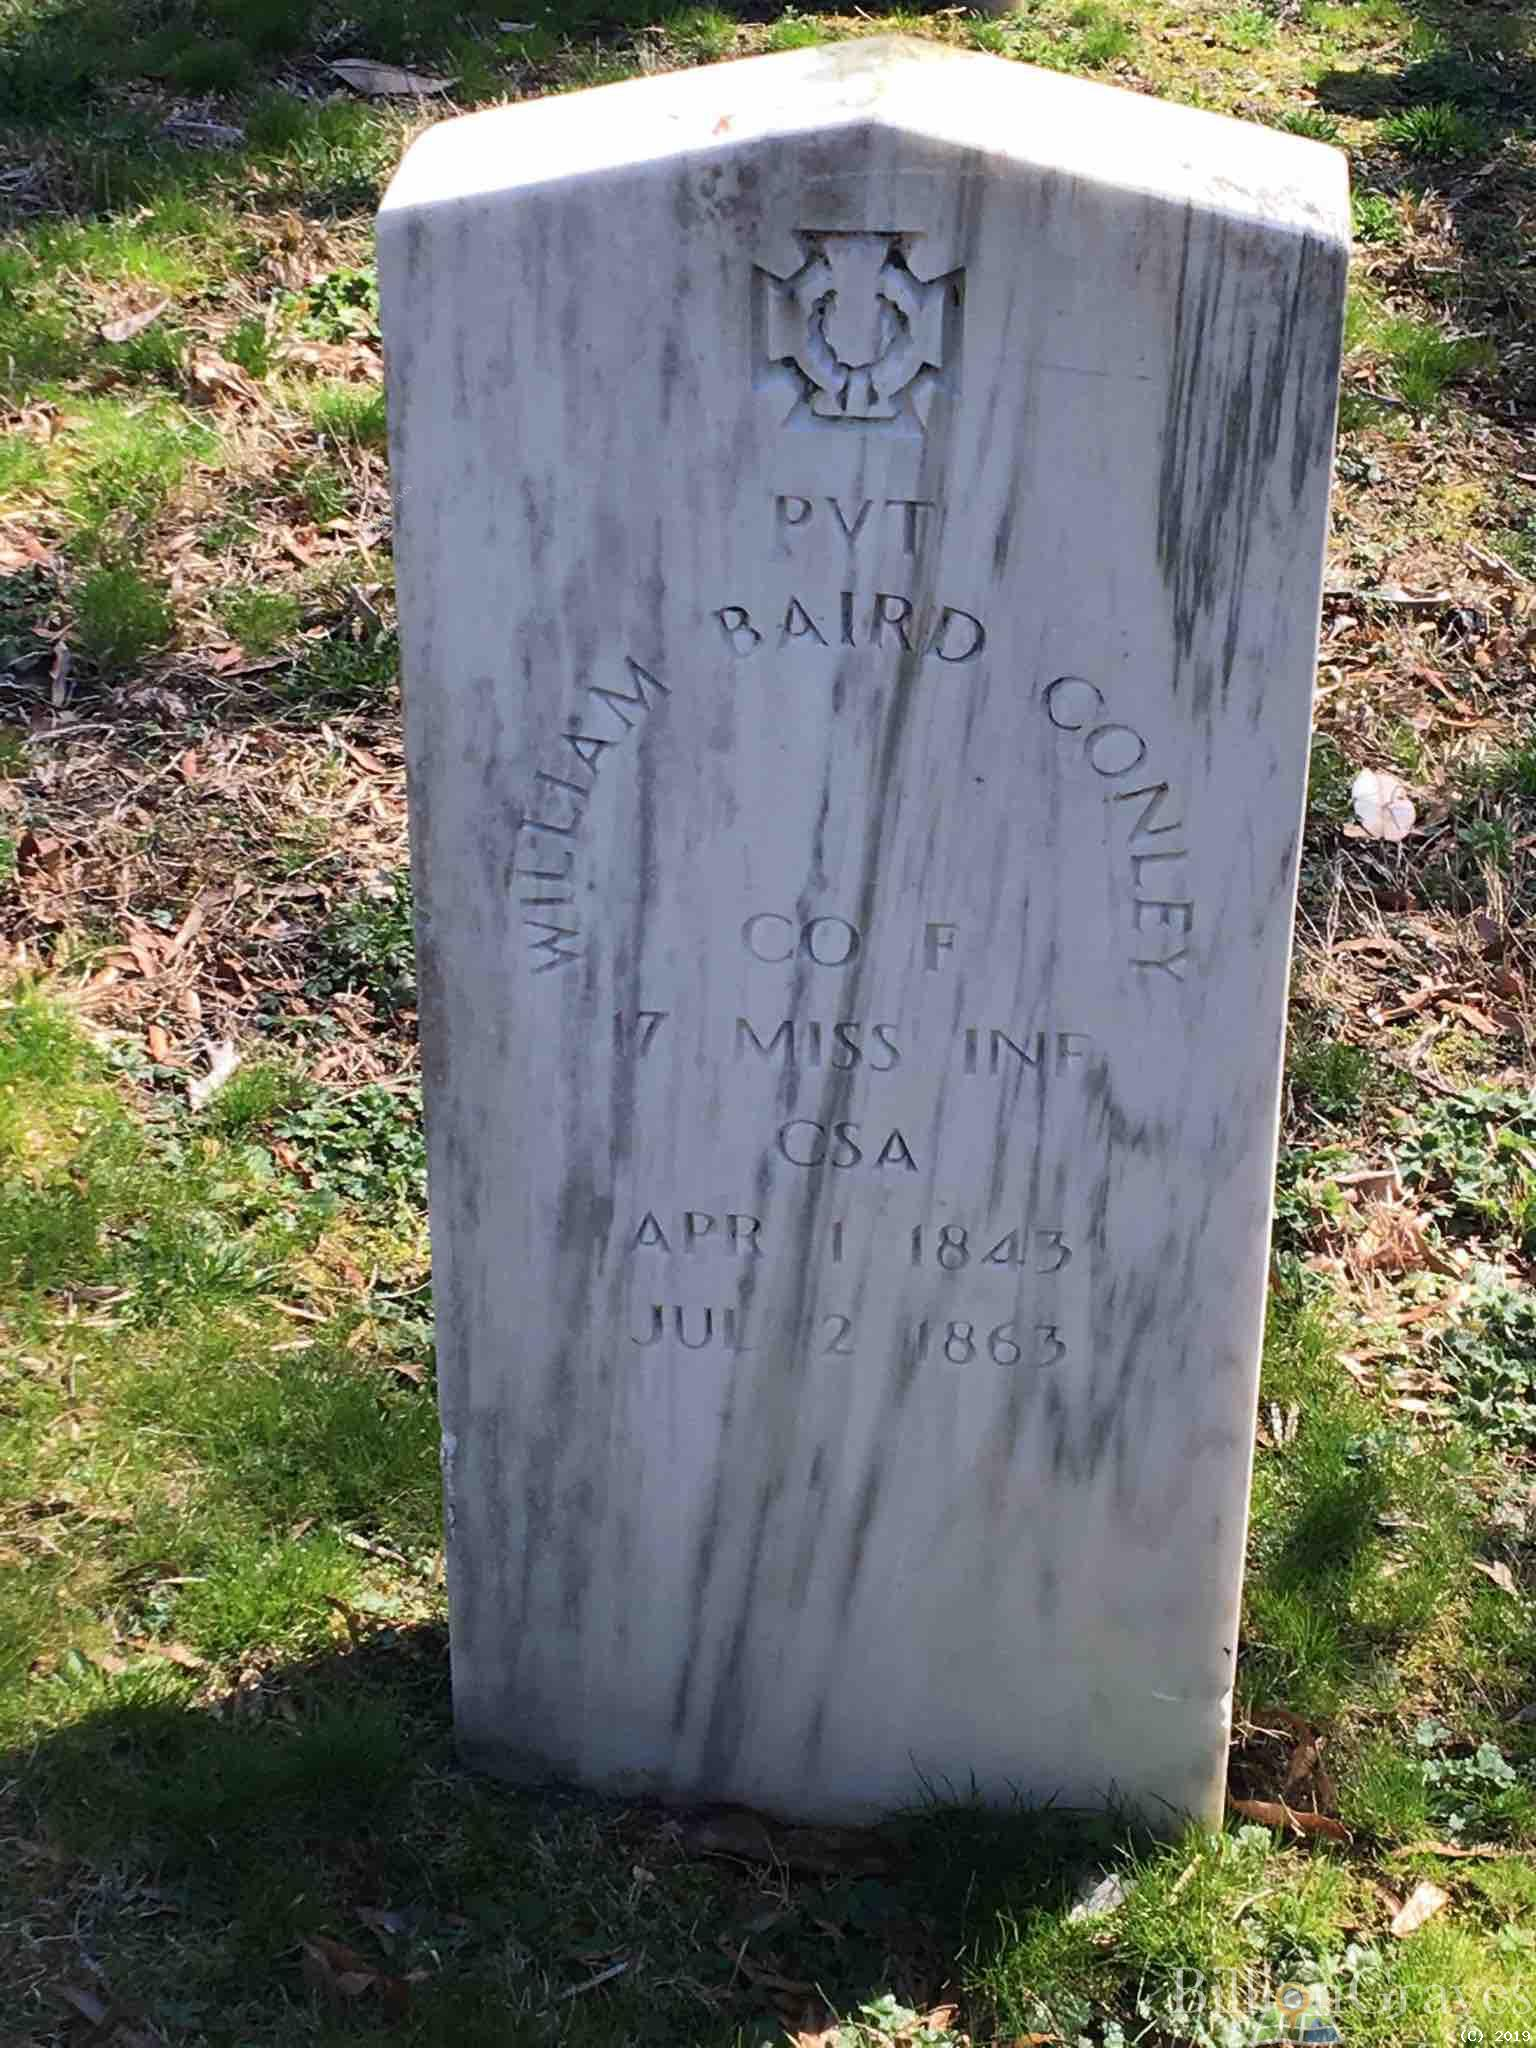military: (382, 50, 1347, 1850)
